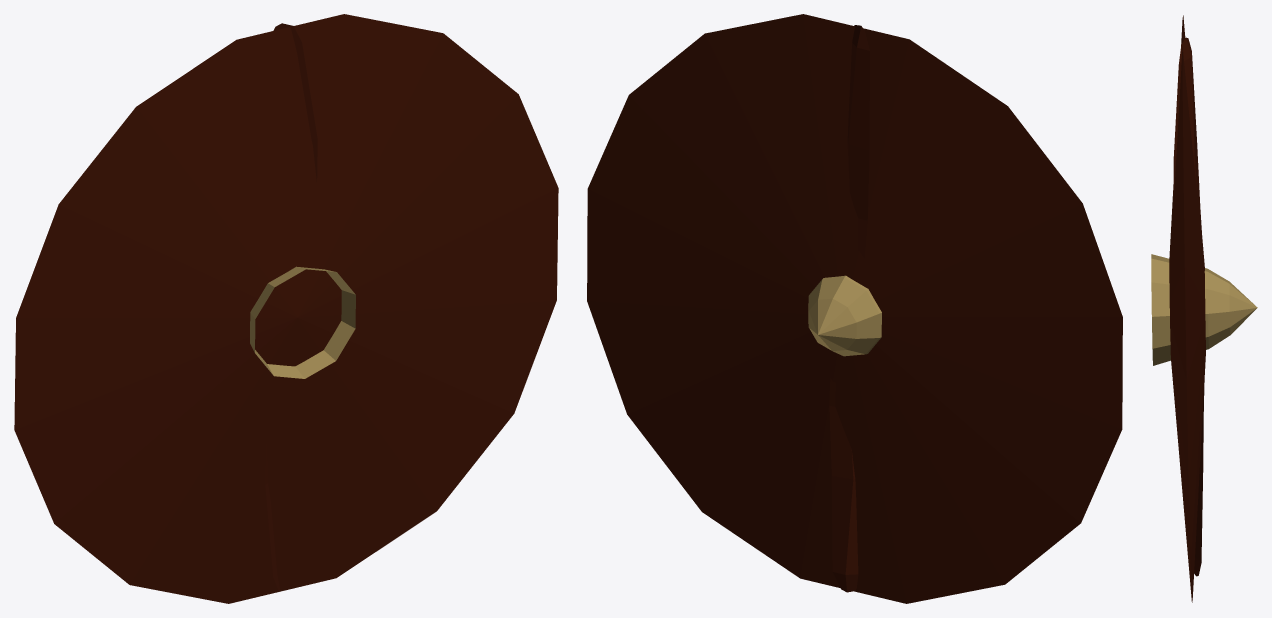
Rendered from prop_savoia21.obj.
3 renders of one model, left to right at view 1: azimuth 30°, elevation 25°; view 2: azimuth 150°, elevation 25°; view 3: azimuth 270°, elevation 25°, orthographic. The views are drawn at different scales.
Visible parts, largest first — view 1: ShapeIndexedFaceSet.065_ShapeIndexedFaceSet, ShapeIndexedFaceSet.063_ShapeIndexedFaceSet.064, ShapeIndexedFaceSet.062_ShapeIndexedFaceSet.063, ShapeIndexedFaceSet.064_ShapeIndexedFaceSet.065, ShapeIndexedFaceSet.061_ShapeIndexedFaceSet.062, ShapeIndexedFaceSet.059_ShapeIndexedFaceSet.060, ShapeIndexedFaceSet.060_ShapeIndexedFaceSet.061; view 2: ShapeIndexedFaceSet.065_ShapeIndexedFaceSet, ShapeIndexedFaceSet.062_ShapeIndexedFaceSet.063, ShapeIndexedFaceSet.063_ShapeIndexedFaceSet.064, ShapeIndexedFaceSet.064_ShapeIndexedFaceSet.065, ShapeIndexedFaceSet.061_ShapeIndexedFaceSet.062, ShapeIndexedFaceSet.060_ShapeIndexedFaceSet.061, ShapeIndexedFaceSet.059_ShapeIndexedFaceSet.060; view 3: ShapeIndexedFaceSet.065_ShapeIndexedFaceSet, ShapeIndexedFaceSet.059_ShapeIndexedFaceSet.060, ShapeIndexedFaceSet.064_ShapeIndexedFaceSet.065, ShapeIndexedFaceSet.060_ShapeIndexedFaceSet.061, ShapeIndexedFaceSet.063_ShapeIndexedFaceSet.064, ShapeIndexedFaceSet.062_ShapeIndexedFaceSet.063, ShapeIndexedFaceSet.061_ShapeIndexedFaceSet.062.
Boxes of the visible parts, x1=… form: ShapeIndexedFaceSet.065_ShapeIndexedFaceSet: x1=14, y1=40, x2=558, y2=577; ShapeIndexedFaceSet.063_ShapeIndexedFaceSet.064: x1=54, y1=33, x2=518, y2=584; ShapeIndexedFaceSet.062_ShapeIndexedFaceSet.063: x1=130, y1=14, x2=442, y2=603; ShapeIndexedFaceSet.064_ShapeIndexedFaceSet.065: x1=14, y1=94, x2=558, y2=523; ShapeIndexedFaceSet.061_ShapeIndexedFaceSet.062: x1=228, y1=14, x2=344, y2=603; ShapeIndexedFaceSet.059_ShapeIndexedFaceSet.060: x1=250, y1=266, x2=355, y2=378; ShapeIndexedFaceSet.060_ShapeIndexedFaceSet.061: x1=265, y1=23, x2=317, y2=590; ShapeIndexedFaceSet.065_ShapeIndexedFaceSet: x1=587, y1=39, x2=1122, y2=578; ShapeIndexedFaceSet.062_ShapeIndexedFaceSet.063: x1=705, y1=14, x2=1004, y2=603; ShapeIndexedFaceSet.063_ShapeIndexedFaceSet.064: x1=629, y1=33, x2=1080, y2=584; ShapeIndexedFaceSet.064_ShapeIndexedFaceSet.065: x1=587, y1=95, x2=1122, y2=522; ShapeIndexedFaceSet.061_ShapeIndexedFaceSet.062: x1=800, y1=14, x2=909, y2=603; ShapeIndexedFaceSet.060_ShapeIndexedFaceSet.061: x1=829, y1=25, x2=869, y2=592; ShapeIndexedFaceSet.059_ShapeIndexedFaceSet.060: x1=808, y1=275, x2=881, y2=356; ShapeIndexedFaceSet.065_ShapeIndexedFaceSet: x1=1170, y1=15, x2=1205, y2=602; ShapeIndexedFaceSet.059_ShapeIndexedFaceSet.060: x1=1151, y1=254, x2=1257, y2=365; ShapeIndexedFaceSet.064_ShapeIndexedFaceSet.065: x1=1169, y1=265, x2=1205, y2=380; ShapeIndexedFaceSet.060_ShapeIndexedFaceSet.061: x1=1173, y1=37, x2=1204, y2=576; ShapeIndexedFaceSet.063_ShapeIndexedFaceSet.064: x1=1169, y1=156, x2=1205, y2=302; ShapeIndexedFaceSet.062_ShapeIndexedFaceSet.063: x1=1169, y1=70, x2=1204, y2=286; ShapeIndexedFaceSet.061_ShapeIndexedFaceSet.062: x1=1169, y1=20, x2=1204, y2=274.
Size of the model in its own units: 8.66 by 8.73 by 1.58.
